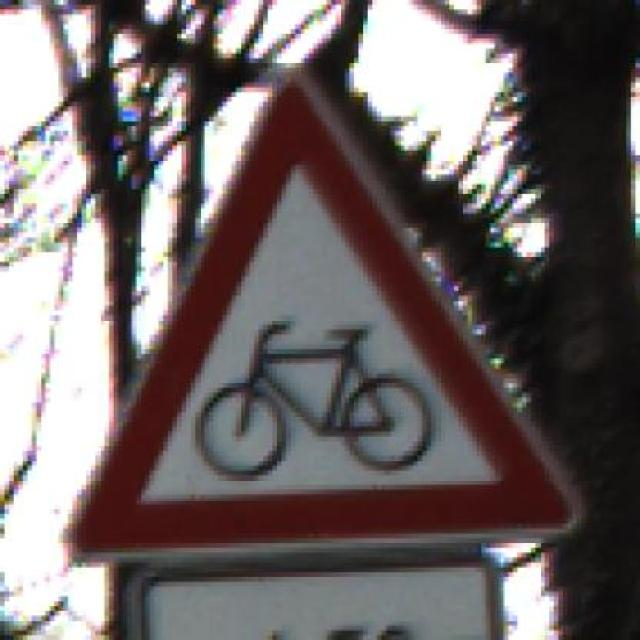CYCLE ROUTE AHEAD WARNING: (46, 72, 586, 563)
